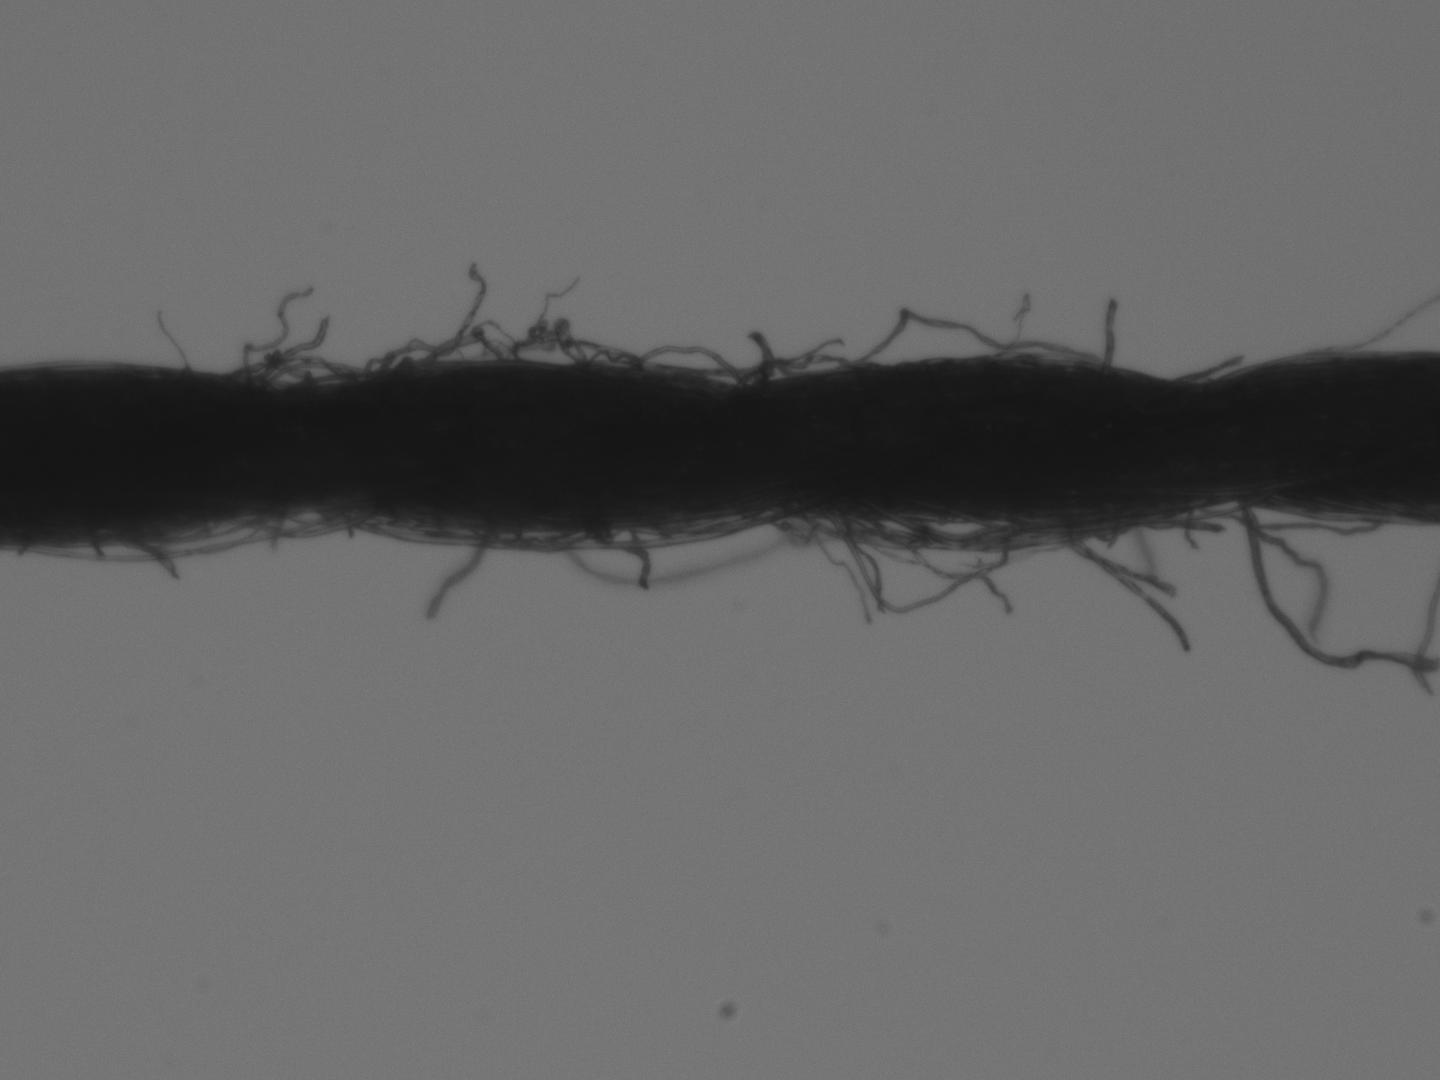loop_fiber: (804, 498, 1195, 558), (18, 507, 334, 565), (839, 514, 1006, 619), (861, 301, 1103, 364), (356, 514, 619, 554), (583, 506, 807, 552), (1200, 496, 1378, 537), (225, 500, 378, 541), (635, 339, 756, 387), (502, 330, 636, 368), (736, 349, 870, 385), (424, 328, 509, 363), (257, 361, 364, 387), (229, 361, 313, 390)
protruding_fiber: (1066, 513, 1175, 592), (424, 524, 491, 623), (254, 312, 332, 378), (120, 537, 185, 575), (1168, 354, 1245, 382), (620, 523, 652, 590), (158, 310, 181, 369), (1100, 295, 1119, 362)
